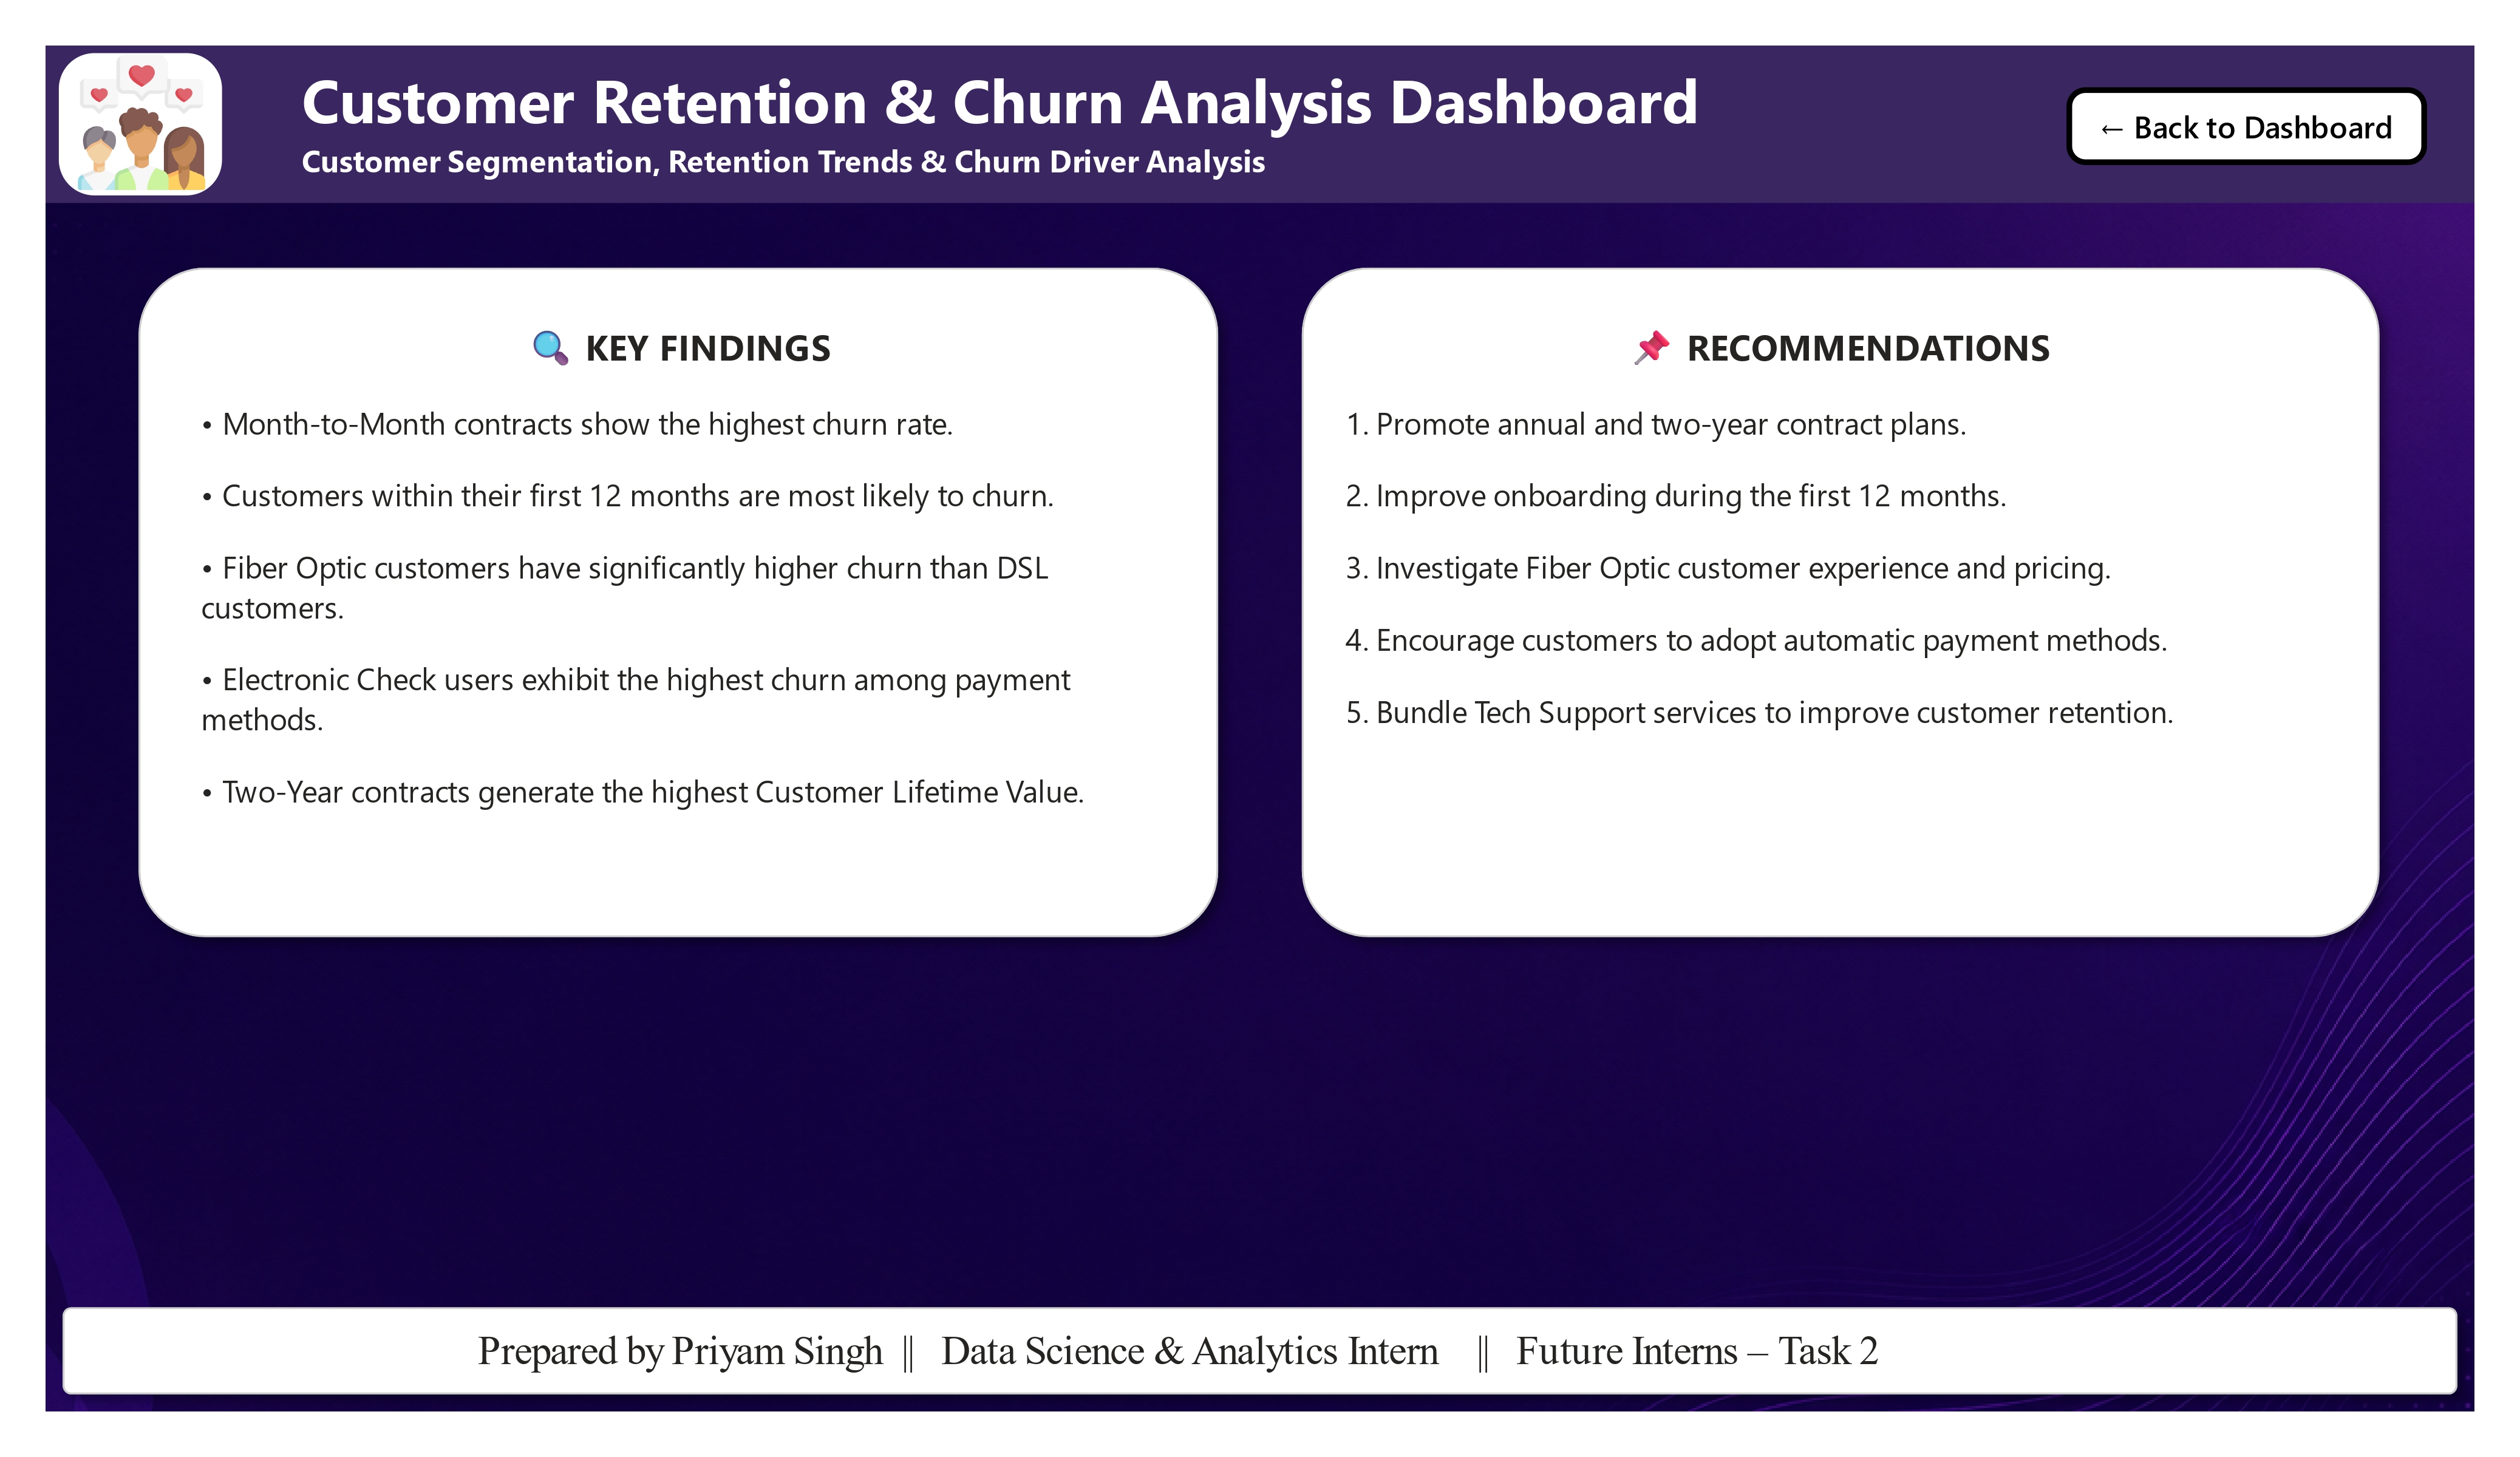

This screenshot's page, from the dashboard's own definition file:
{"tool":"powerbi","page":{"name":"Insights & Recommendations","canvas":[1280,720],"ordinal":1},"visuals":[{"type":"shape","box":[0,0,1280,82.5],"z":0},{"type":"shape","box":[7,3.5,85.8,75.8],"z":1000},{"type":"image","box":[11.8,5.2,76.2,71],"z":2000},{"type":"textbox","box":[130,0,857.1,82.9],"z":3000},{"type":"shape","box":[40.5,108,586.5,370.6],"z":12000},{"type":"actionButton","box":[1065,22.1,190.2,40.5],"z":16001},{"type":"textbox","box":[77.3,141.1,514.1,337.4],"z":16002},{"type":"shape","box":[652.8,108,586.5,370.6],"z":16003},{"type":"textbox","box":[679.8,141.1,531.3,337.4],"z":16004},{"type":"shape","box":[0,656.4,1279.8,63.8],"z":16005},{"type":"textbox","box":[223.3,672.4,834.4,47.9],"z":16006}]}

Visuals, with their boxes on the page's 1280x720 design canvas (x1, y1, x2, y2). These are canvas units, not pixel positions in the 2520x1457 screenshot, which may show the page scaled, cropped or inside an application window:
shape: left=0, top=0, right=1280, bottom=82
shape: left=7, top=4, right=93, bottom=79
image: left=12, top=5, right=88, bottom=76
textbox: left=130, top=0, right=987, bottom=83
shape: left=40, top=108, right=627, bottom=479
actionButton: left=1065, top=22, right=1255, bottom=63
textbox: left=77, top=141, right=591, bottom=478
shape: left=653, top=108, right=1239, bottom=479
textbox: left=680, top=141, right=1211, bottom=478
shape: left=0, top=656, right=1280, bottom=720
textbox: left=223, top=672, right=1058, bottom=720
